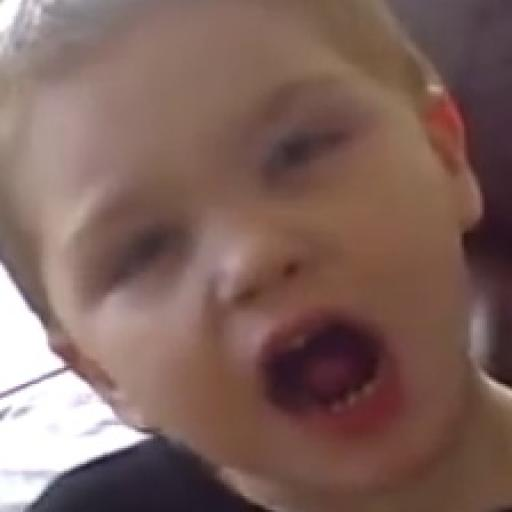Autism: (23, 26, 512, 479)
